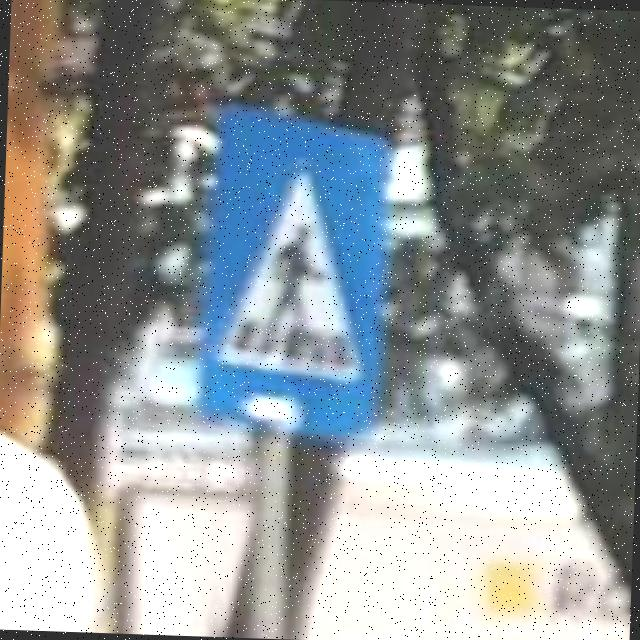Przejscie dla pieszych: (192, 106, 390, 447)
